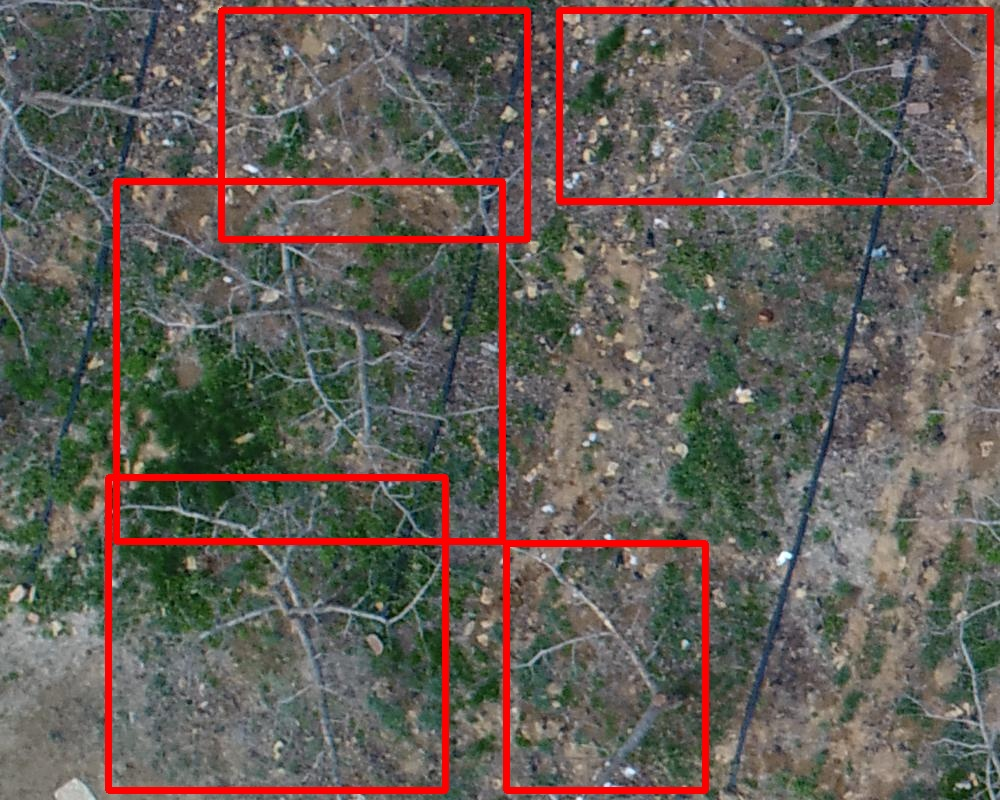apple: (116, 181, 502, 541), (108, 477, 445, 790), (559, 10, 990, 201), (221, 10, 527, 239), (506, 543, 705, 790)
